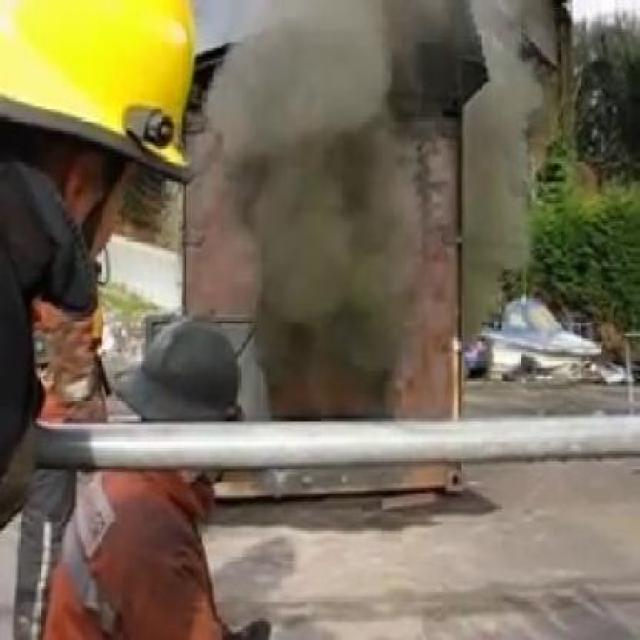smoke: (228, 26, 416, 371), (466, 133, 534, 307), (488, 16, 550, 136)
